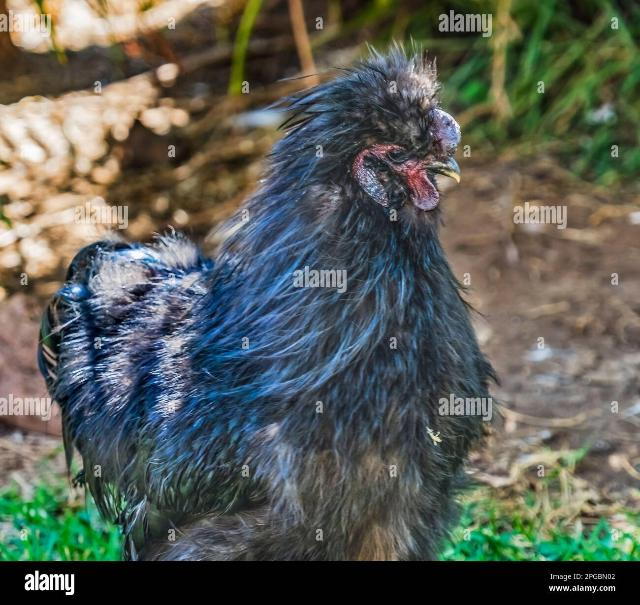Chicken: (38, 41, 487, 556)
